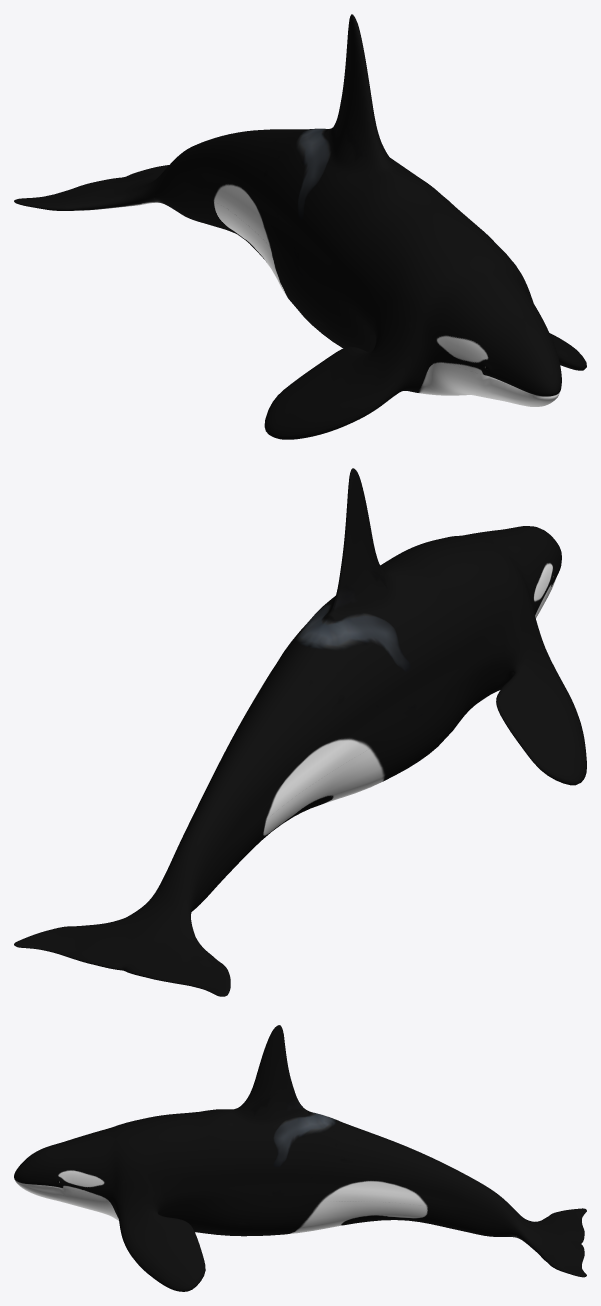
Rendered from whale.obj.
The picture shows the model from 3 angles, top to bottom: view 1: azimuth 30°, elevation 25°; view 2: azimuth 150°, elevation 25°; view 3: azimuth 270°, elevation 25°; orthographic projection. The views are drawn at different scales.
Parts seen in each view (by area): view 1: Cube.001; view 2: Cube.001; view 3: Cube.001.
Boxes of the visible parts, x1,y1,x2,y2 form: Cube.001: [14, 14, 586, 439]; Cube.001: [14, 468, 586, 996]; Cube.001: [14, 1025, 586, 1291].
Size of the model in its own units: 26.21 by 26.98 by 63.45.
Materials: 1 (1 with a texture image).
